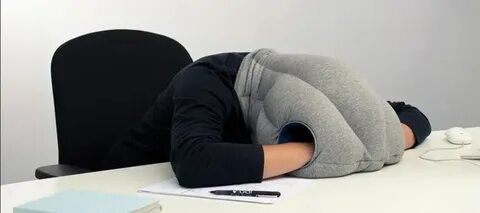sleep: (130, 41, 436, 190)
